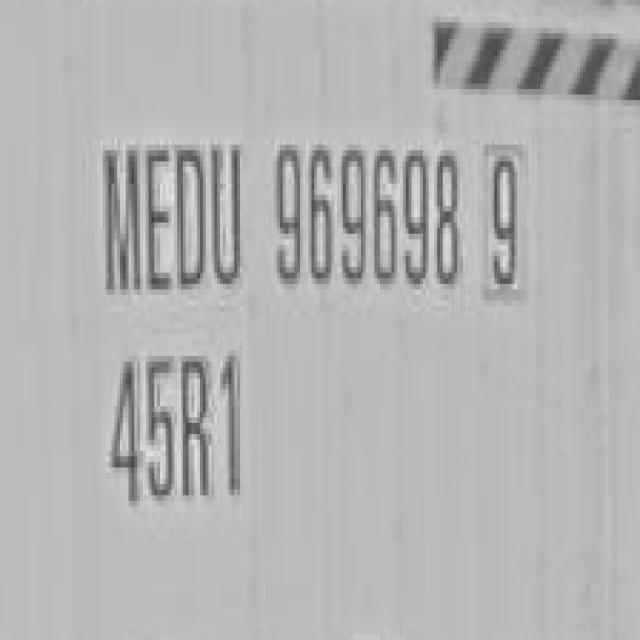dv: (477, 138, 524, 302)
owner: (97, 112, 246, 310)
serial: (266, 117, 466, 302)
size: (103, 348, 249, 520)
